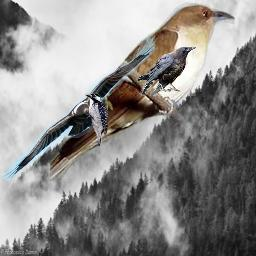Crow: (0, 34, 158, 181), (137, 46, 196, 96)
Cuckoo: (50, 2, 235, 181)
Woodpecker: (85, 93, 108, 146)
